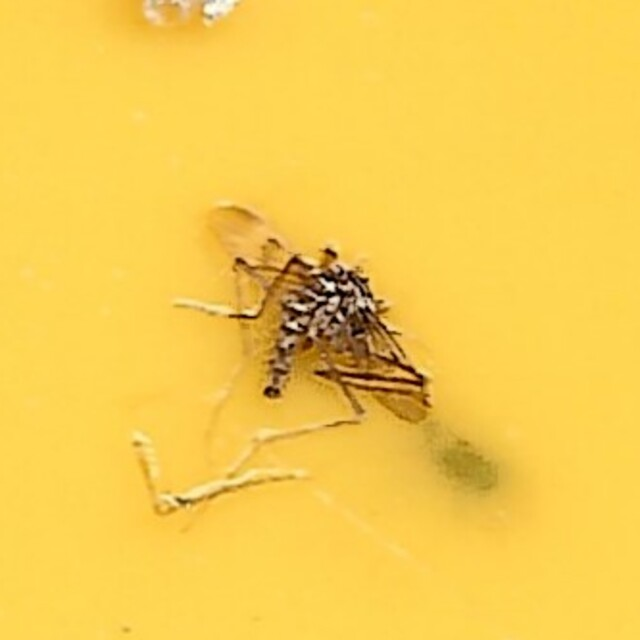Nematocera: (192, 184, 448, 456)
